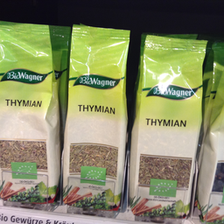spices: (128, 34, 208, 221), (60, 24, 130, 209), (1, 20, 60, 208)
